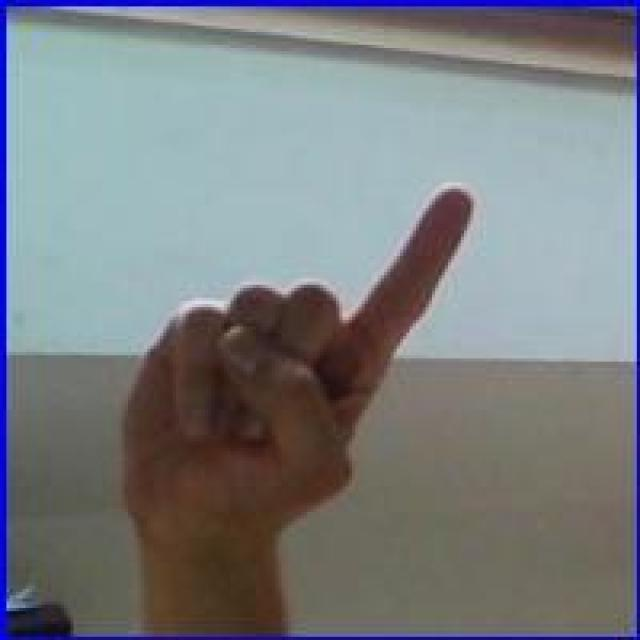Z: (101, 186, 475, 544)
